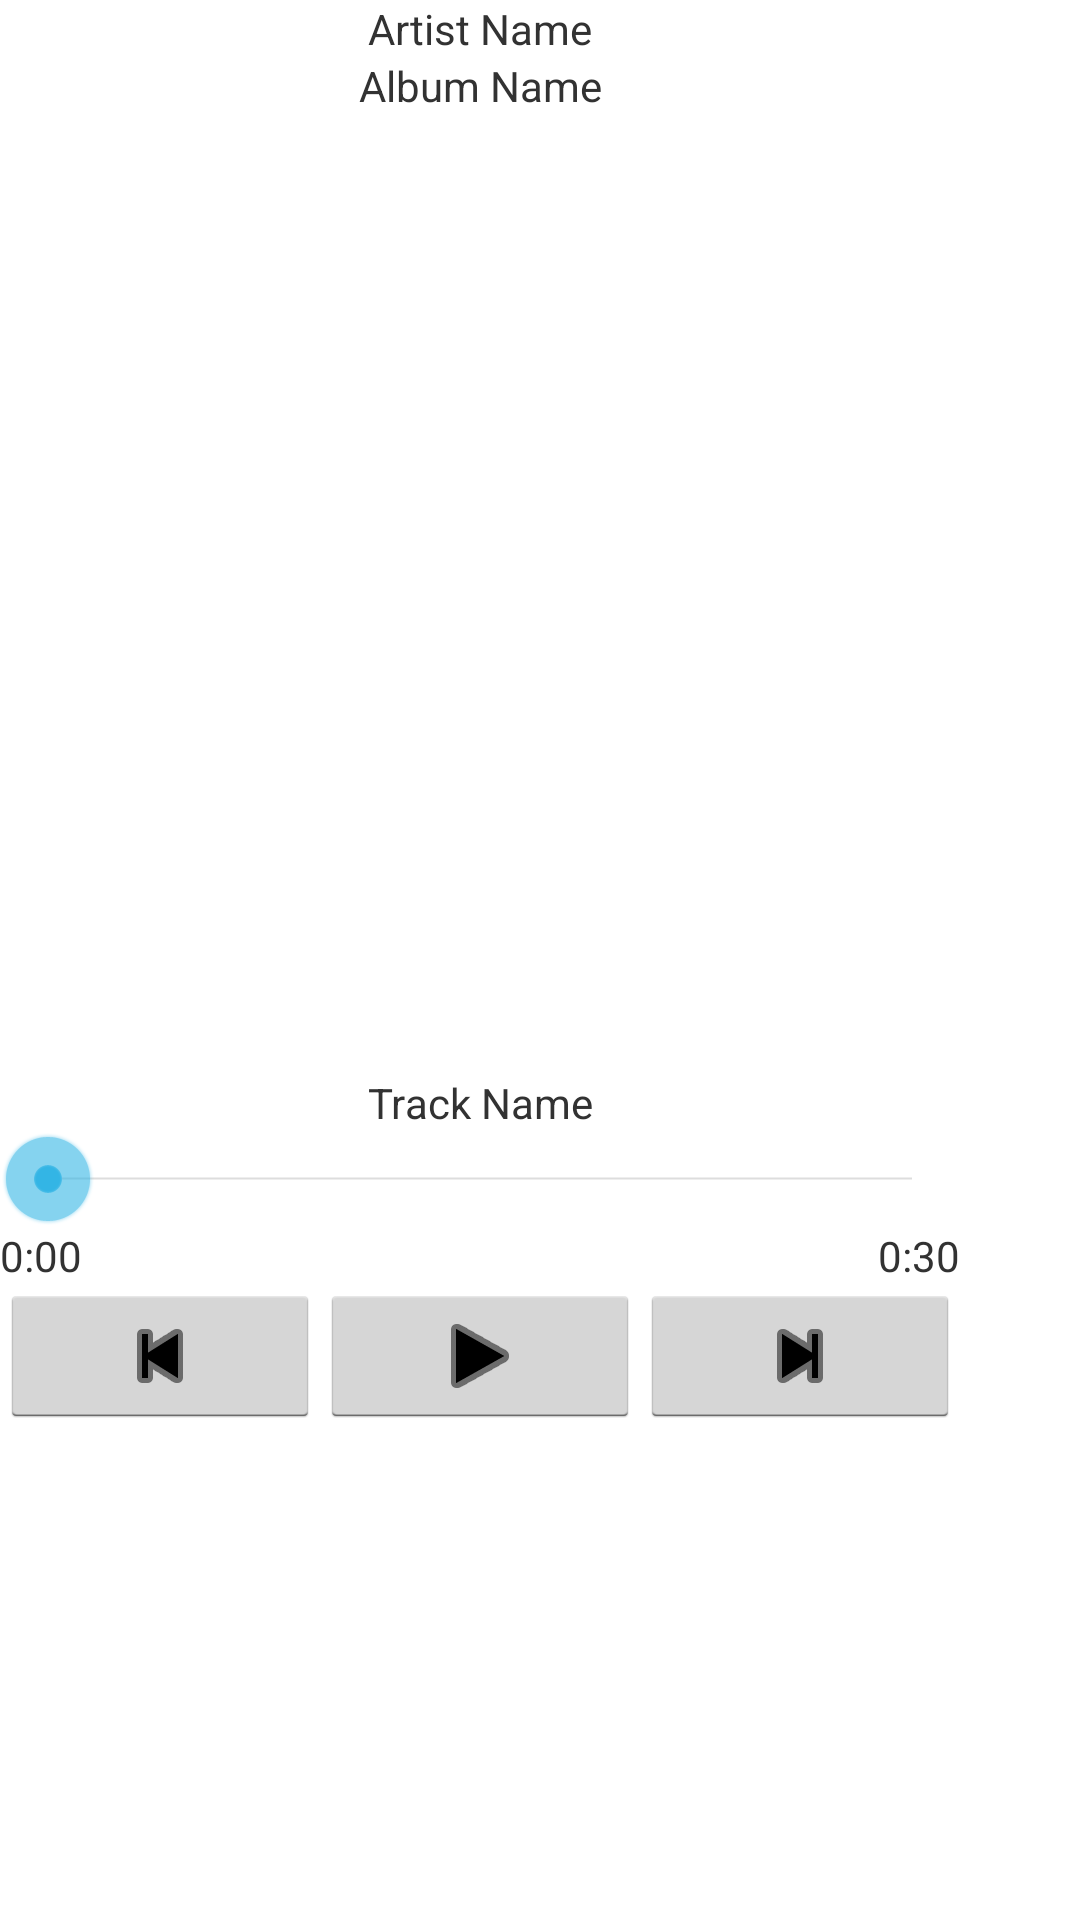

Screen size 1080w x 1920h. Icon name, then its box in pixels as (x1, y1, x2, y2):
next: (652, 1297, 948, 1417)
play: (332, 1297, 628, 1417)
previous: (12, 1297, 308, 1417)
